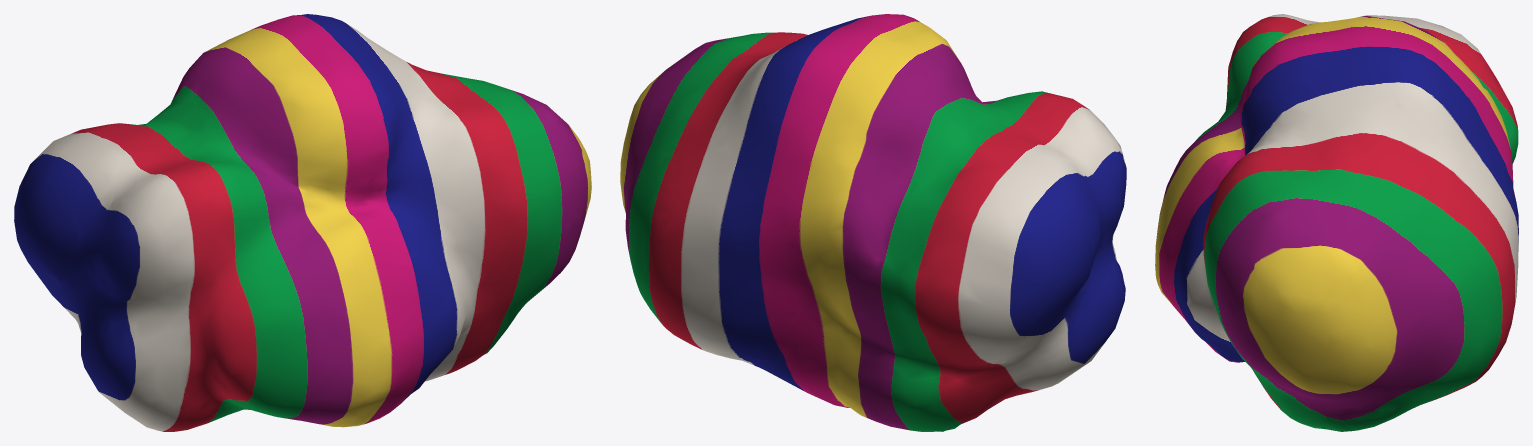
File: A-5_Onstick.fbx
The picture shows the model from 3 angles, left to right: view 1: azimuth 30°, elevation 25°; view 2: azimuth 150°, elevation 25°; view 3: azimuth 270°, elevation 25°; orthographic projection. The views are drawn at different scales.
Parts seen in each view (by area): view 1: A-5; view 2: A-5; view 3: A-5.
Part boxes in pixels (<box>): A-5: <box>14,14,591,431</box>; A-5: <box>620,14,1126,431</box>; A-5: <box>1155,14,1518,431</box>.
Bounding box in the file's own units: 1.35 × 0.9561 × 0.8778.
